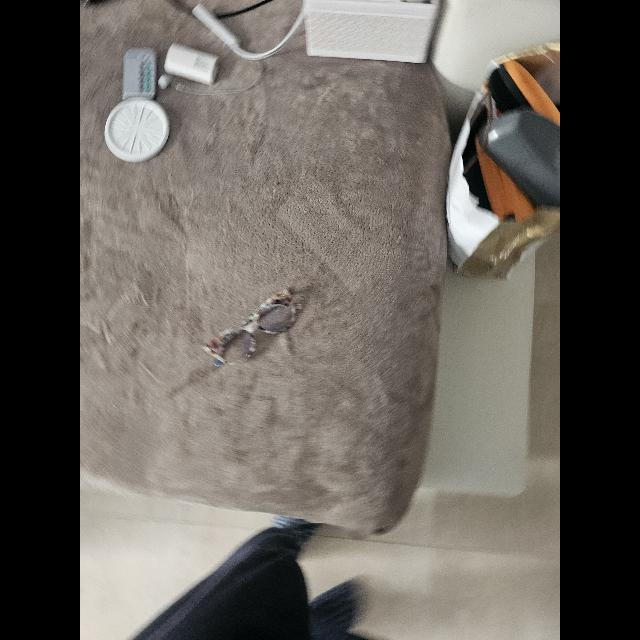glasses: (203, 289, 301, 366)
